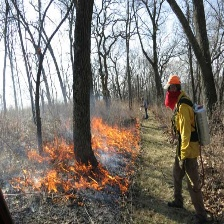fire: (19, 120, 138, 200)
